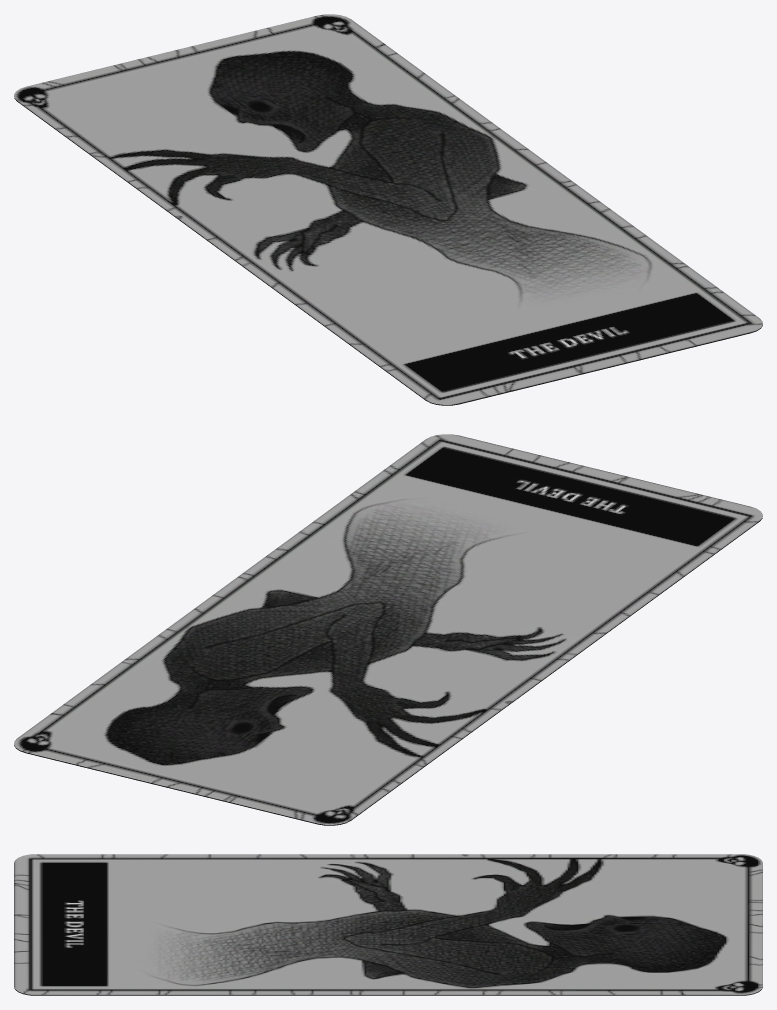
Rendered from result.gltf.
3 views of the same model, one above another, from view 1: azimuth 30°, elevation 25°; view 2: azimuth 150°, elevation 25°; view 3: azimuth 270°, elevation 25° (orthographic). The views are drawn at different scales.
Visible parts, largest first — view 1: Plane.004; view 2: Plane.004; view 3: Plane.004.
Part boxes in pixels (x1,y1,x2,y2): Plane.004: (14, 14, 762, 405); Plane.004: (14, 434, 762, 825); Plane.004: (14, 854, 762, 995).
Size of the model in its own units: 2.22 by 0.005 by 4.99.
1 material, 1 textured.
